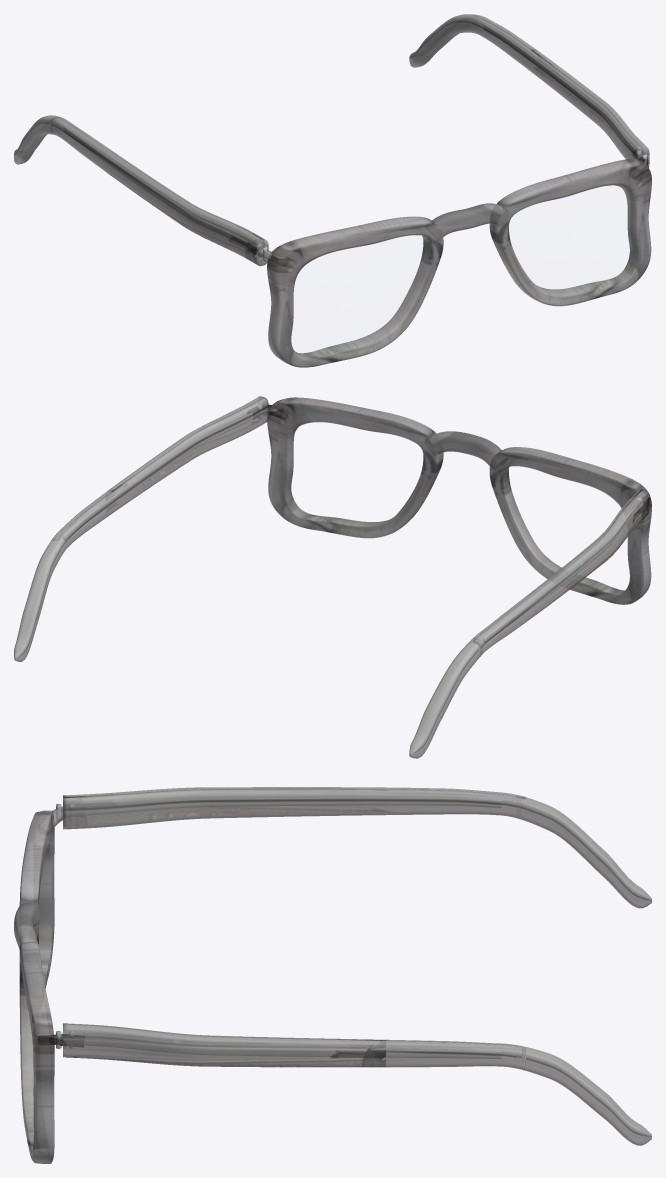
Rendered from prod-new-2.glb.
The picture shows the model from 3 angles, top to bottom: view 1: azimuth 30°, elevation 25°; view 2: azimuth 150°, elevation 25°; view 3: azimuth 270°, elevation 25°; orthographic projection. The views are drawn at different scales.
Parts seen in each view (by area): view 1: Traced bevelled frame -1, Traced bevelled frame 1, Fitted temple exterior -1, Fitted temple exterior 1, Saddle nose bridge, Fitted temple internal core -1, Fitted temple internal core 1; view 2: Traced bevelled frame 1, Traced bevelled frame -1, Fitted temple exterior 1, Fitted temple exterior -1, Saddle nose bridge, Fitted temple internal core 1, Fitted temple internal core -1; view 3: Fitted temple exterior 1, Fitted temple exterior -1, Traced bevelled frame 1, Traced bevelled frame -1, Fitted temple internal core -1, Fitted temple internal core 1, Saddle nose bridge, Reference hinge connection -1.
Part boxes in pixels (x1,y1,x2,y2): Traced bevelled frame -1: (267, 216, 443, 367); Traced bevelled frame 1: (489, 159, 651, 306); Fitted temple exterior -1: (14, 115, 268, 266); Fitted temple exterior 1: (409, 14, 649, 168); Saddle nose bridge: (425, 203, 508, 240); Fitted temple internal core -1: (63, 126, 262, 254); Fitted temple internal core 1: (483, 24, 635, 151); Traced bevelled frame 1: (267, 397, 443, 538); Traced bevelled frame -1: (489, 447, 651, 604); Fitted temple exterior 1: (14, 396, 268, 661); Fitted temple exterior -1: (409, 489, 649, 758); Saddle nose bridge: (425, 431, 508, 470); Fitted temple internal core 1: (63, 412, 253, 540); Fitted temple internal core -1: (483, 506, 637, 643); Fitted temple exterior 1: (63, 1023, 651, 1145); Fitted temple exterior -1: (63, 787, 651, 908); Traced bevelled frame 1: (19, 942, 54, 1163); Traced bevelled frame -1: (19, 810, 54, 988); Fitted temple internal core -1: (85, 797, 501, 815); Fitted temple internal core 1: (84, 1037, 501, 1058); Saddle nose bridge: (14, 903, 39, 962); Reference hinge connection -1: (38, 805, 84, 835).
Bounding box in the file's own units: 0.1427 × 0.04 × 0.1484.
7 materials, 3 textured.
